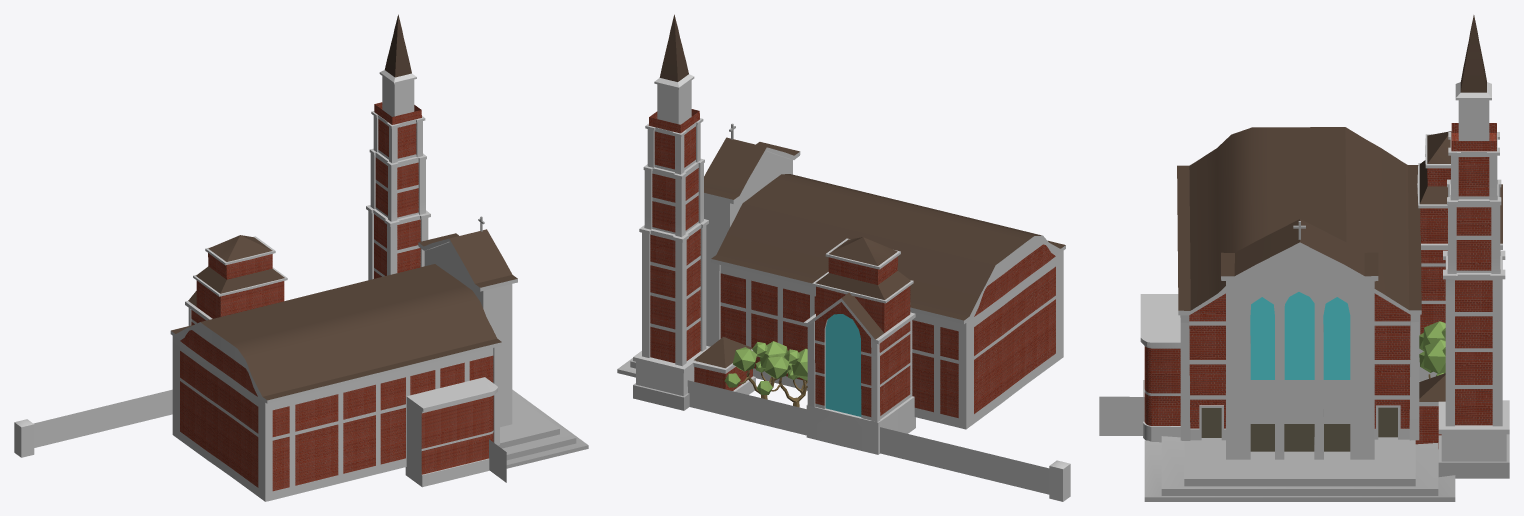
The model's file is Cathedral.fbx.
3 renders of one model, left to right at view 1: azimuth 30°, elevation 25°; view 2: azimuth 150°, elevation 25°; view 3: azimuth 270°, elevation 25°, orthographic. The views are drawn at different scales.
Parts seen in each view (by area): view 1: Cube.003; view 2: Cube.003, Tree_lp_11.001, Tree_lp_11; view 3: Cube.003, Tree_lp_11, Tree_lp_11.001.
Boxes of the visible parts, left/top/right/bottom form: Cube.003: left=14, top=14, right=588, bottom=501; Cube.003: left=617, top=14, right=1070, bottom=501; Tree_lp_11.001: left=756, top=348, right=807, bottom=407; Tree_lp_11: left=724, top=341, right=792, bottom=399; Cube.003: left=1099, top=15, right=1509, bottom=501; Tree_lp_11: left=1419, top=339, right=1445, bottom=378; Tree_lp_11.001: left=1419, top=321, right=1445, bottom=350.
Bounding box in the file's own units: 1162 × 911 × 750.
